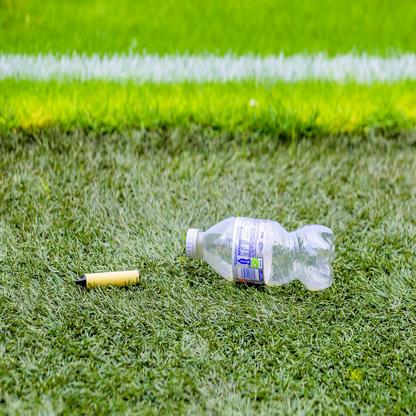plastic bottle: (186, 216, 337, 293)
